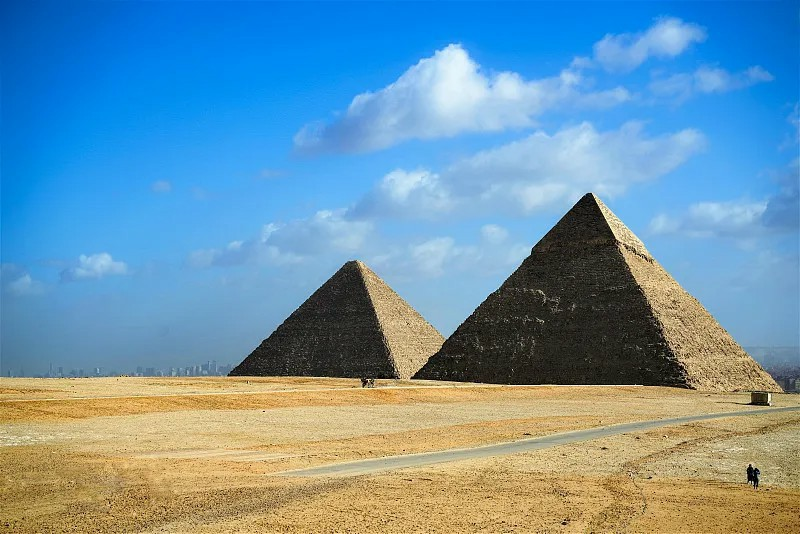Pyramid: (411, 191, 783, 395), (229, 261, 443, 378)
